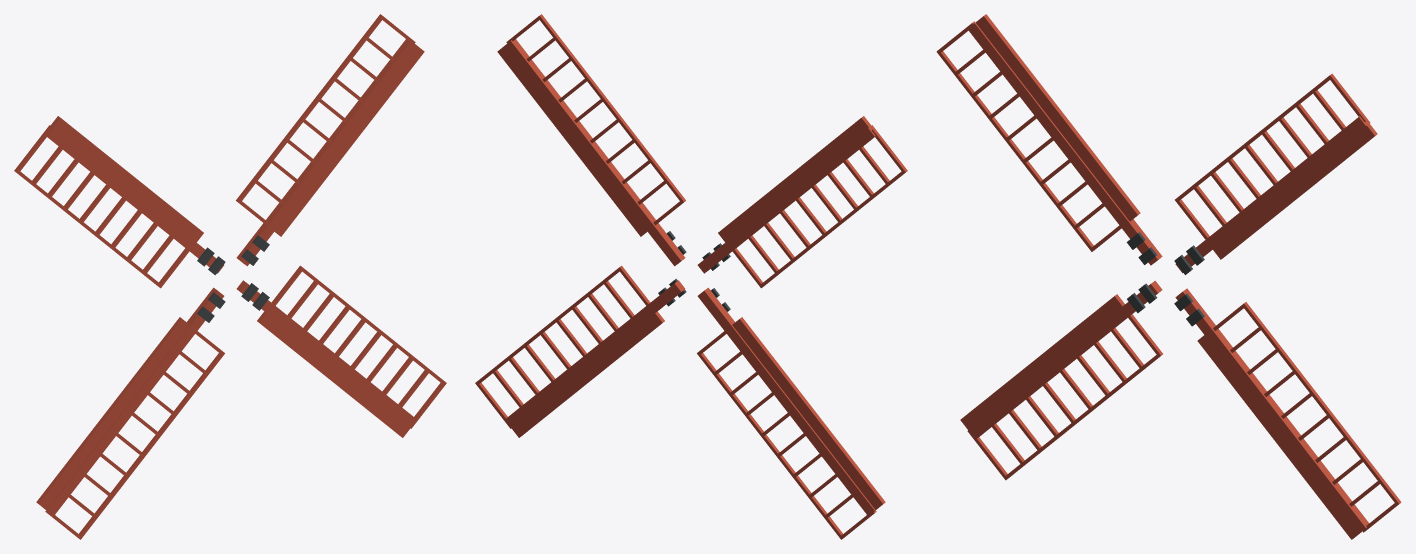
Rendered from windmill_rotor.glb.
3 renders of one model, left to right at view 1: azimuth 30°, elevation 25°; view 2: azimuth 150°, elevation 25°; view 3: azimuth 330°, elevation 25°, orthographic. The views are drawn at different scales.
Parts seen in each view (by area): view 1: Windmill_Rotor; view 2: Windmill_Rotor; view 3: Windmill_Rotor.
Boxes of the visible parts, bbox=[...] form: Windmill_Rotor: bbox=[14, 14, 446, 539]; Windmill_Rotor: bbox=[475, 14, 907, 539]; Windmill_Rotor: bbox=[936, 14, 1401, 539].
Bounding box in the file's own units: 585 × 585 × 14.
